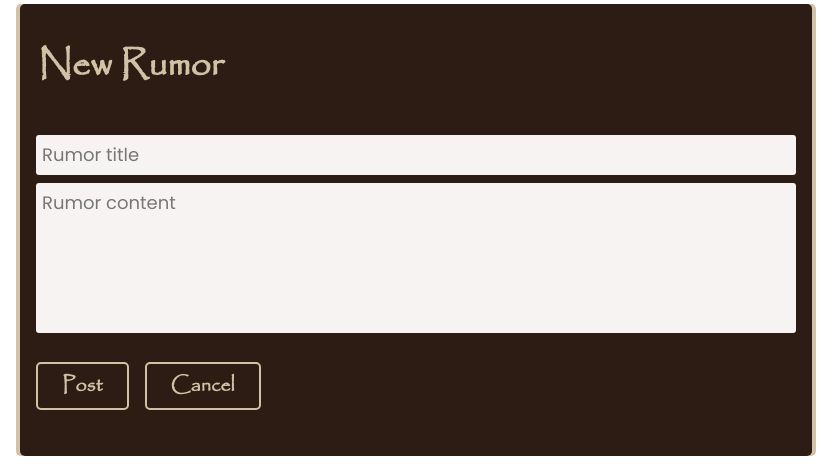
Test case: NewPost › shows validation errors when submit with empty fields
Click the button "Post" at (82, 386), box 36,362 -> 128,410
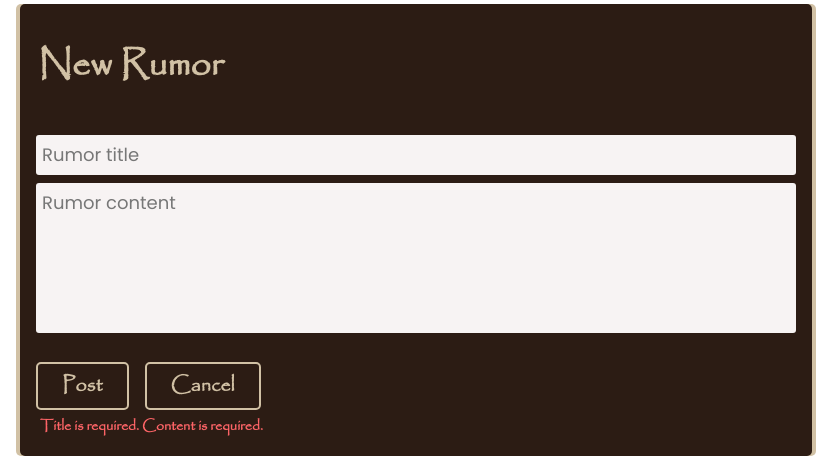
Result: the text "Title is required." is shown at 40,415 -> 142,437
Result: the text "Content is required." is shown at 142,415 -> 263,437
